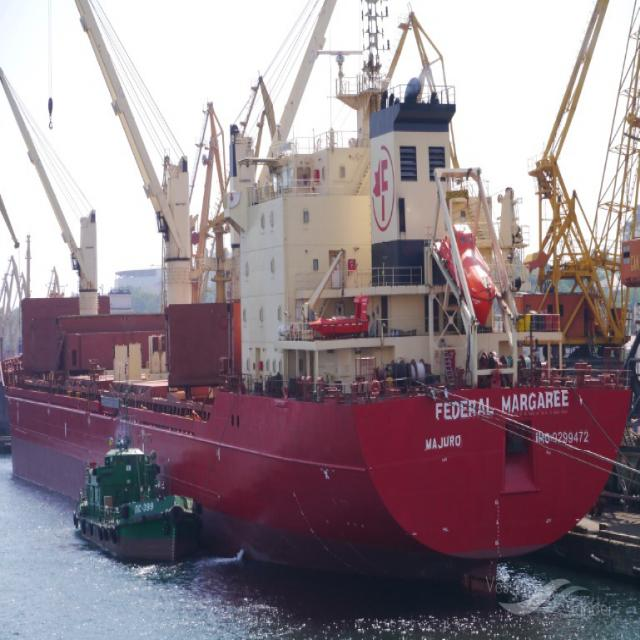OCR: (425, 389, 572, 422), (531, 426, 598, 450), (424, 421, 467, 457)
